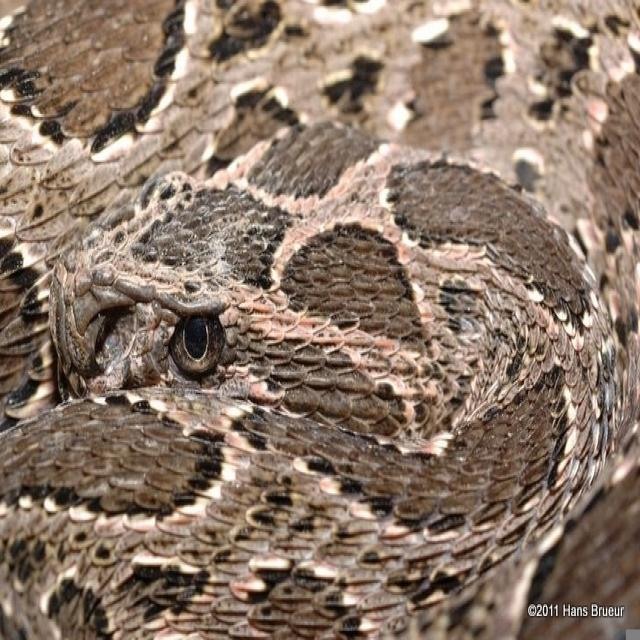Snake: (0, 2, 639, 594)
